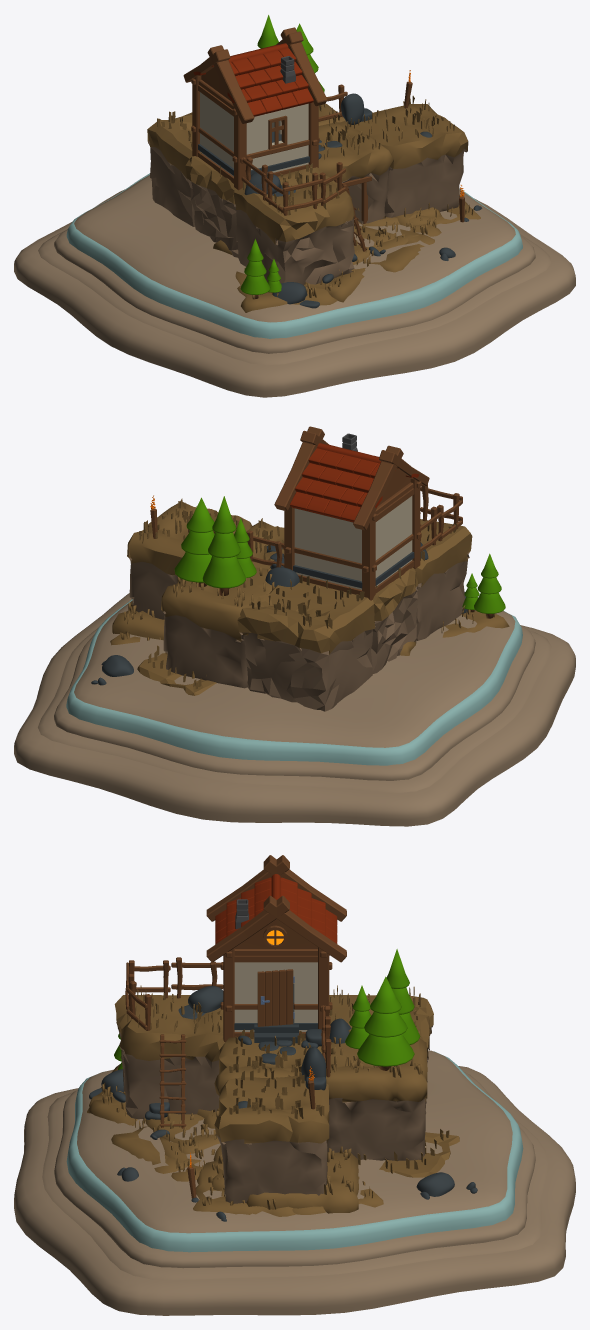
File: CASITA.fbx
The picture shows the model from 3 angles, top to bottom: view 1: azimuth 30°, elevation 25°; view 2: azimuth 150°, elevation 25°; view 3: azimuth 270°, elevation 25°; orthographic projection. The views are drawn at different scales.
Visible parts, largest first — view 1: Plane.011, Plane.002, Tile_Rocky_01.056, Plane.012, Tile_Rocky_01.059, Plane.009, Plane.010, Tile_Rocky_01.061, Tile_Rocky_01.021, Tile_Rocky_01.058, Tile_Rocky_01.054, Cube.038 (+14 smaller); view 2: Plane.011, Plane.002, Tile_Rocky_01.058, Plane.012, Plane.009, Tile_Rocky_01.057, Plane.010, Tile_Rocky_01.059, Tile_Rocky_01.056, Cube.016, Tile_Rocky_01.054, Cube.038 (+18 smaller); view 3: Plane.011, Plane.002, Tile_Rocky_01.059, Plane.012, Plane.009, Tile_Rocky_01.057, Tile_Rocky_01.056, Plane.010, Tile_Rocky_01.061, Cube.038, Tile_Rocky_01.055, Cylinder.001 (+21 smaller).
Part boxes in pixels (x1,y1,x2,y2): Plane.011: (14,189,575,397); Plane.002: (74,175,515,322); Tile_Rocky_01.056: (233,163,354,285); Plane.012: (66,173,522,338); Tile_Rocky_01.059: (342,95,468,217); Plane.009: (54,229,535,353); Plane.010: (38,231,551,365); Tile_Rocky_01.061: (235,215,441,312); Tile_Rocky_01.021: (318,113,393,224); Tile_Rocky_01.058: (147,111,195,226); Tile_Rocky_01.054: (185,152,313,257); Cube.038: (183,27,327,123); Plane.011: (14,593,575,826); Plane.002: (74,600,515,747); Tile_Rocky_01.058: (237,574,375,711); Plane.012: (66,599,522,765); Plane.009: (54,626,535,780); Tile_Rocky_01.057: (161,567,274,688); Plane.010: (38,627,551,792); Tile_Rocky_01.059: (127,498,252,619); Tile_Rocky_01.056: (415,512,472,640); Cube.016: (294,508,361,589); Tile_Rocky_01.054: (371,567,418,673); Cube.038: (274,426,429,530); Plane.011: (14,1066,575,1315); Plane.002: (77,1050,512,1233); Tile_Rocky_01.059: (214,1067,329,1203); Plane.012: (66,1051,523,1252); Plane.009: (54,1090,535,1268); Tile_Rocky_01.057: (321,1029,427,1160); Tile_Rocky_01.056: (114,985,225,1119); Plane.010: (42,1072,547,1280); Tile_Rocky_01.061: (87,1064,219,1181); Cube.038: (206,855,346,962); Tile_Rocky_01.055: (246,1146,358,1213); Cylinder.001: (357,976,414,1070).
Bounding box in the file's own units: 1131 × 727 × 1146.
